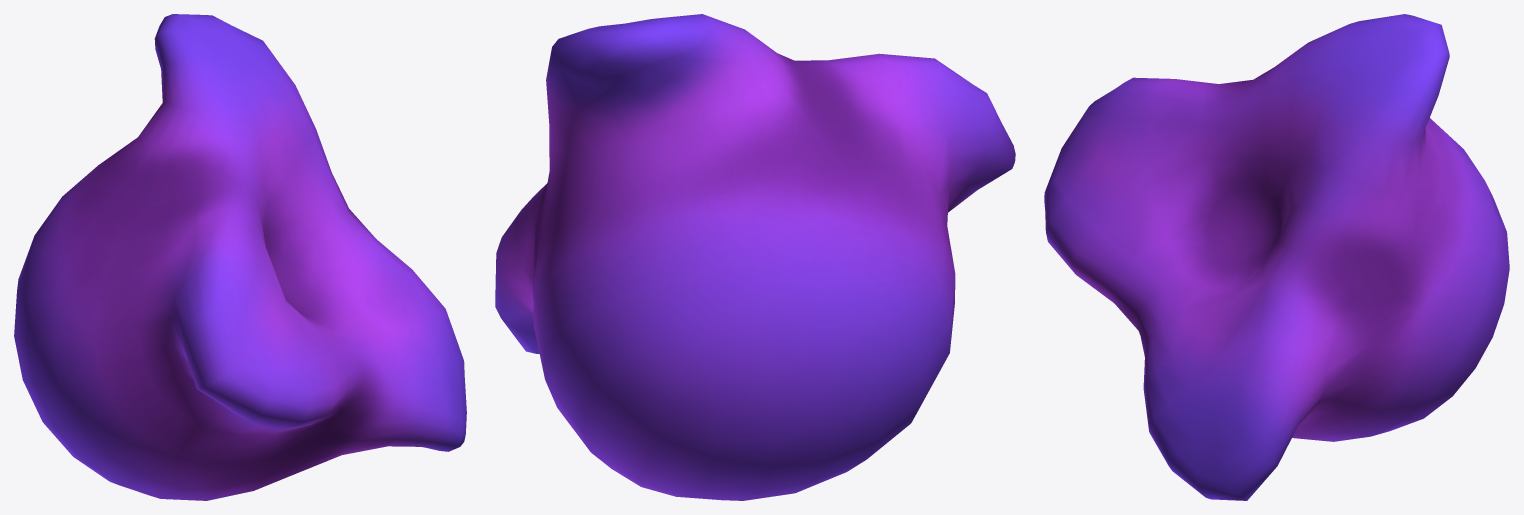
File: frut.fbx
The picture shows the model from 3 angles, left to right: view 1: azimuth 30°, elevation 25°; view 2: azimuth 150°, elevation 25°; view 3: azimuth 270°, elevation 25°; orthographic projection. The views are drawn at different scales.
Parts seen in each view (by area): view 1: frut; view 2: frut; view 3: frut.
Boxes of the visible parts, <box> form: frut: <box>14,14,466,500</box>; frut: <box>495,14,1015,500</box>; frut: <box>1044,14,1509,500</box>.
Size of the model in its own units: 126 by 127 by 128.
